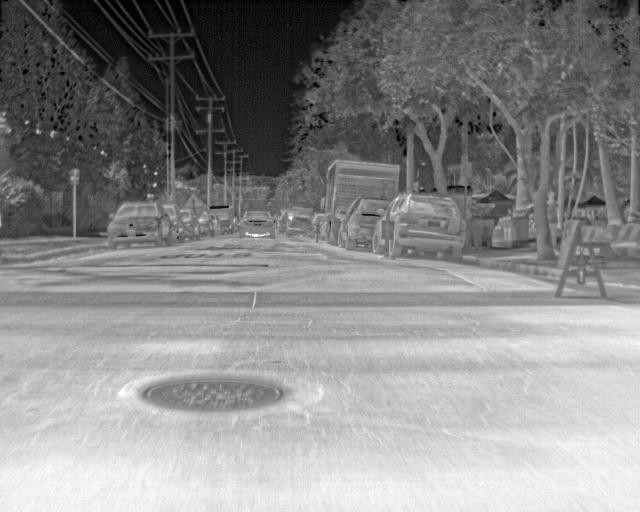bicycle: (374, 193, 465, 263), (106, 201, 171, 249), (337, 196, 391, 250), (240, 209, 276, 239), (161, 203, 181, 243), (286, 208, 314, 235), (178, 208, 197, 239)
